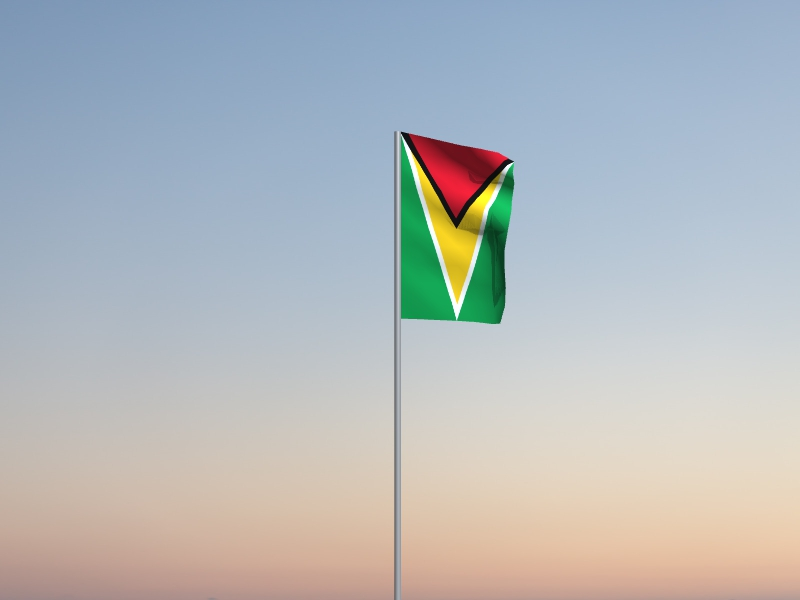gy: (402, 133, 516, 325)
